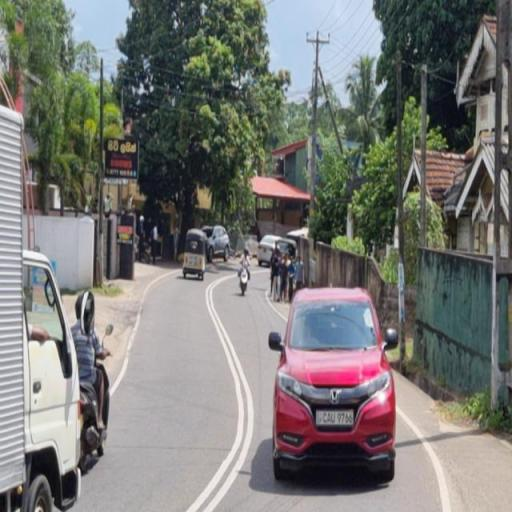double_white_line: (183, 280, 259, 512)
